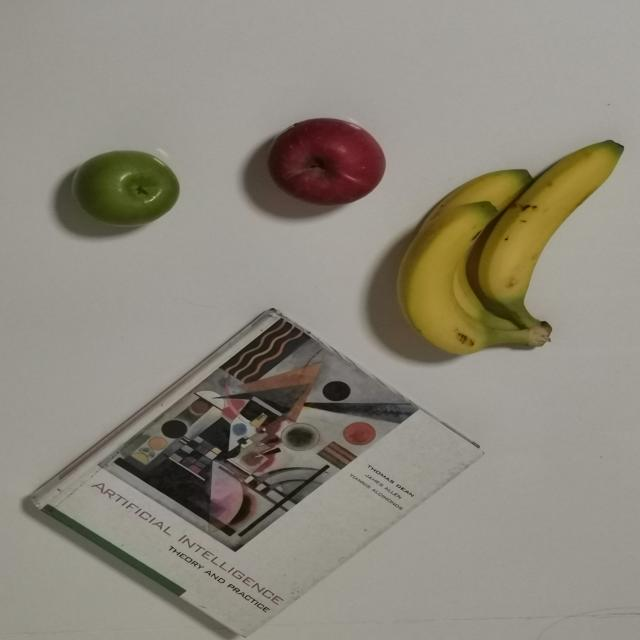Apple: (268, 115, 387, 212), (77, 152, 175, 226)
Banana: (389, 117, 626, 366)
Book: (22, 309, 486, 639)
